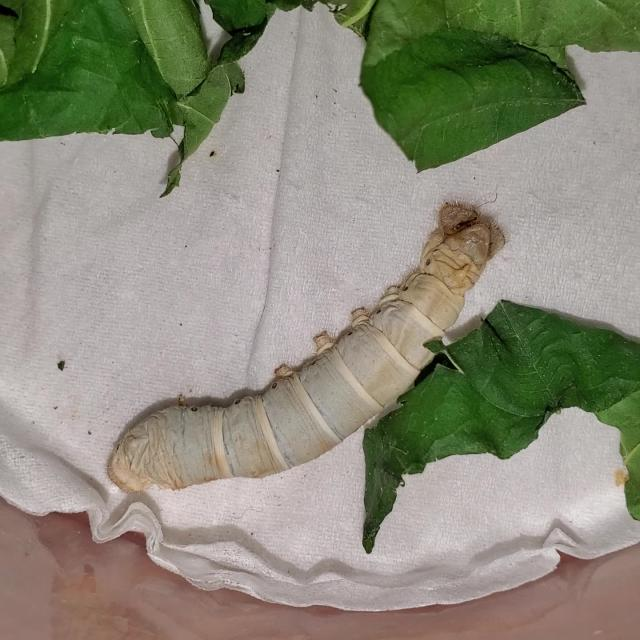Grasserie: (96, 186, 524, 526)
